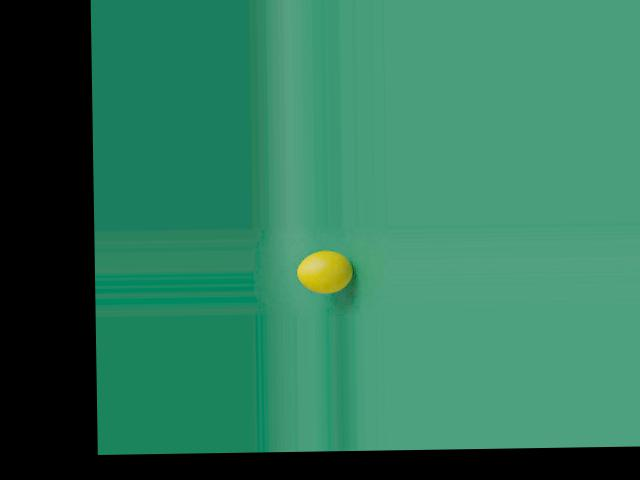egg: (296, 249, 353, 292)
